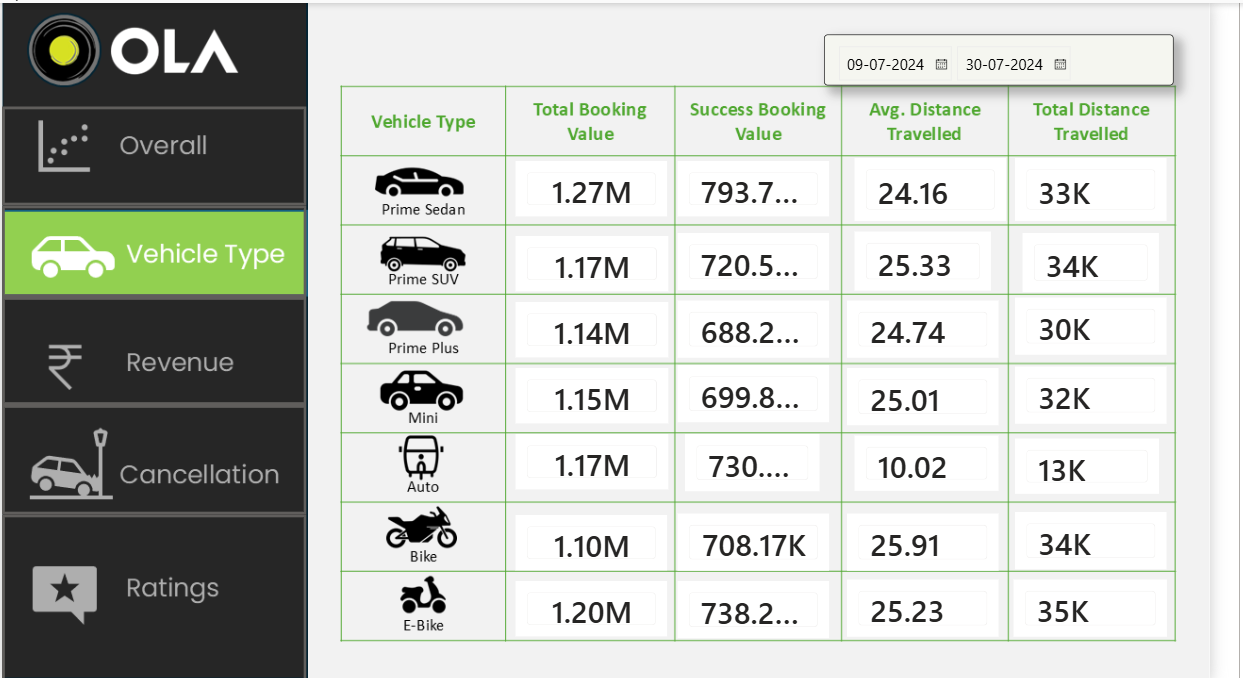

This screenshot's page, from the dashboard's own definition file:
{"tool":"powerbi","page":{"name":"Vehicle Type","canvas":[1280,720],"ordinal":1},"visuals":[{"type":"actionButton","box":[0,109.8,322.9,105],"z":0},{"type":"actionButton","box":[0,214.7,322.9,97],"z":1000},{"type":"actionButton","box":[0,311.8,322.9,114.5],"z":2000},{"type":"actionButton","box":[0,426.3,322.9,116.1],"z":3000},{"type":"actionButton","box":[0,541.9,322.9,178.1],"z":4000},{"type":"cardVisual","fields":{"Data":["Sum(July.Booking_Value)"]},"box":[539.2,162.2,171.8,70],"z":5000},{"type":"cardVisual","fields":{"Data":["Sum(July.Booking_Value)"]},"box":[711,162.2,171.8,70],"z":6000},{"type":"cardVisual","fields":{"Data":["Sum(July.Booking_Value)"]},"box":[538.8,241.8,172,69.8],"z":7000},{"type":"cardVisual","fields":{"Data":["Sum(July.Booking_Value)"]},"box":[538.8,311.6,172,69.8],"z":8000},{"type":"cardVisual","fields":{"Data":["Sum(July.Booking_Value)"]},"box":[538.8,381.4,172,69.8],"z":9000},{"type":"cardVisual","fields":{"Data":["Sum(July.Booking_Value)"]},"box":[538.8,451.2,172,69.8],"z":10000},{"type":"cardVisual","fields":{"Data":["Sum(July.Booking_Value)"]},"box":[539.8,537.8,171.3,69.7],"z":11000},{"type":"cardVisual","fields":{"Data":["Sum(July.Booking_Value)"]},"box":[539.8,607.5,171.3,69.7],"z":12000},{"type":"cardVisual","fields":{"Data":["Sum(July.Booking_Value)"]},"box":[711,239,171.3,71.7],"z":13000},{"type":"cardVisual","fields":{"Data":["Sum(July.Booking_Value)"]},"box":[711,310.7,171.3,71.7],"z":14000},{"type":"cardVisual","fields":{"Data":["Sum(July.Booking_Value)"]},"box":[711,378.4,171.3,71.7],"z":15000},{"type":"cardVisual","fields":{"Data":["Sum(July.Booking_Value)"]},"box":[719,452.1,153.4,71.7],"z":16000},{"type":"cardVisual","fields":{"Data":["Sum(July.Booking_Value)"]},"box":[711,535.8,171.3,71.7],"z":17000},{"type":"cardVisual","fields":{"Data":["Sum(July.Booking_Value)"]},"box":[711,607.5,171.3,71.7],"z":18000},{"type":"cardVisual","fields":{"Data":["Avg(July.Ride_Distance)"]},"box":[898.3,159.3,171.3,77.7],"z":19000},{"type":"cardVisual","fields":{"Data":["Avg(July.Ride_Distance)"]},"box":[898.3,237,155.4,73.7],"z":20000},{"type":"cardVisual","fields":{"Data":["Avg(July.Ride_Distance)"]},"box":[890.3,310.7,171.3,71.7],"z":21000},{"type":"cardVisual","fields":{"Data":["Avg(July.Ride_Distance)"]},"box":[890.3,382.4,171.3,71.7],"z":22000},{"type":"cardVisual","fields":{"Data":["Avg(July.Ride_Distance)"]},"box":[898.3,454.1,163.3,69.7],"z":23000},{"type":"cardVisual","fields":{"Data":["Avg(July.Ride_Distance)"]},"box":[890.3,535.8,171.3,71.7],"z":24000},{"type":"cardVisual","fields":{"Data":["Avg(July.Ride_Distance)"]},"box":[890.3,605.5,171.3,71.7],"z":25000},{"type":"cardVisual","fields":{"Data":["Sum(July.Ride_Distance)"]},"box":[1069.6,159.3,171.3,77.7],"z":26000},{"type":"cardVisual","fields":{"Data":["Sum(July.Ride_Distance)"]},"box":[1077.5,239,155.4,73.7],"z":27000},{"type":"cardVisual","fields":{"Data":["Sum(July.Ride_Distance)"]},"box":[1069.6,306.7,171.3,71.7],"z":28000},{"type":"cardVisual","fields":{"Data":["Sum(July.Ride_Distance)"]},"box":[1069.6,380.4,171.3,71.7],"z":29000},{"type":"cardVisual","fields":{"Data":["Sum(July.Ride_Distance)"]},"box":[1069.6,456.1,163.3,69.7],"z":30000},{"type":"cardVisual","fields":{"Data":["Sum(July.Ride_Distance)"]},"box":[1069.6,533.8,171.3,71.7],"z":31000},{"type":"cardVisual","fields":{"Data":["Sum(July.Ride_Distance)"]},"box":[1067.6,605.5,173.3,71.7],"z":32000},{"type":"slicer","title":"Date","fields":{"Values":["July.Date"]},"box":[871.7,33.4,370.6,54.1],"z":33000}]}

Visuals, with their boxes on the page's 1280x720 design canvas (x1, y1, x2, y2). These are canvas units, not pixel positions in the 1243x678 screenshot, which may show the page scaled, cropped or inside an application window:
actionButton: [x1=0, y1=110, x2=323, y2=215]
actionButton: [x1=0, y1=215, x2=323, y2=312]
actionButton: [x1=0, y1=312, x2=323, y2=426]
actionButton: [x1=0, y1=426, x2=323, y2=542]
actionButton: [x1=0, y1=542, x2=323, y2=720]
cardVisual - Sum(July.Booking_Value): [x1=539, y1=162, x2=711, y2=232]
cardVisual - Sum(July.Booking_Value): [x1=711, y1=162, x2=883, y2=232]
cardVisual - Sum(July.Booking_Value): [x1=539, y1=242, x2=711, y2=312]
cardVisual - Sum(July.Booking_Value): [x1=539, y1=312, x2=711, y2=381]
cardVisual - Sum(July.Booking_Value): [x1=539, y1=381, x2=711, y2=451]
cardVisual - Sum(July.Booking_Value): [x1=539, y1=451, x2=711, y2=521]
cardVisual - Sum(July.Booking_Value): [x1=540, y1=538, x2=711, y2=608]
cardVisual - Sum(July.Booking_Value): [x1=540, y1=608, x2=711, y2=677]
cardVisual - Sum(July.Booking_Value): [x1=711, y1=239, x2=882, y2=311]
cardVisual - Sum(July.Booking_Value): [x1=711, y1=311, x2=882, y2=382]
cardVisual - Sum(July.Booking_Value): [x1=711, y1=378, x2=882, y2=450]
cardVisual - Sum(July.Booking_Value): [x1=719, y1=452, x2=872, y2=524]
cardVisual - Sum(July.Booking_Value): [x1=711, y1=536, x2=882, y2=608]
cardVisual - Sum(July.Booking_Value): [x1=711, y1=608, x2=882, y2=679]
cardVisual - Avg(July.Ride_Distance): [x1=898, y1=159, x2=1070, y2=237]
cardVisual - Avg(July.Ride_Distance): [x1=898, y1=237, x2=1054, y2=311]
cardVisual - Avg(July.Ride_Distance): [x1=890, y1=311, x2=1062, y2=382]
cardVisual - Avg(July.Ride_Distance): [x1=890, y1=382, x2=1062, y2=454]
cardVisual - Avg(July.Ride_Distance): [x1=898, y1=454, x2=1062, y2=524]
cardVisual - Avg(July.Ride_Distance): [x1=890, y1=536, x2=1062, y2=608]
cardVisual - Avg(July.Ride_Distance): [x1=890, y1=606, x2=1062, y2=677]
cardVisual - Sum(July.Ride_Distance): [x1=1070, y1=159, x2=1241, y2=237]
cardVisual - Sum(July.Ride_Distance): [x1=1078, y1=239, x2=1233, y2=313]
cardVisual - Sum(July.Ride_Distance): [x1=1070, y1=307, x2=1241, y2=378]
cardVisual - Sum(July.Ride_Distance): [x1=1070, y1=380, x2=1241, y2=452]
cardVisual - Sum(July.Ride_Distance): [x1=1070, y1=456, x2=1233, y2=526]
cardVisual - Sum(July.Ride_Distance): [x1=1070, y1=534, x2=1241, y2=606]
cardVisual - Sum(July.Ride_Distance): [x1=1068, y1=606, x2=1241, y2=677]
"Date" slicer: [x1=872, y1=33, x2=1242, y2=88]
